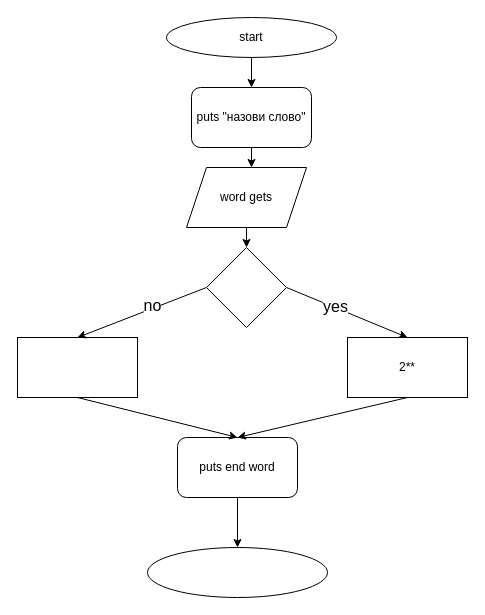
The diagram is 485 pixels wide and 615 high, and some of its shapes have lost their labels. The box of each missing label's shape, as (x1, y1, x2, y2) in pixels:
end: (146, 546, 328, 598)
end? CS: (206, 246, 286, 328)
revers: (16, 336, 138, 398)
